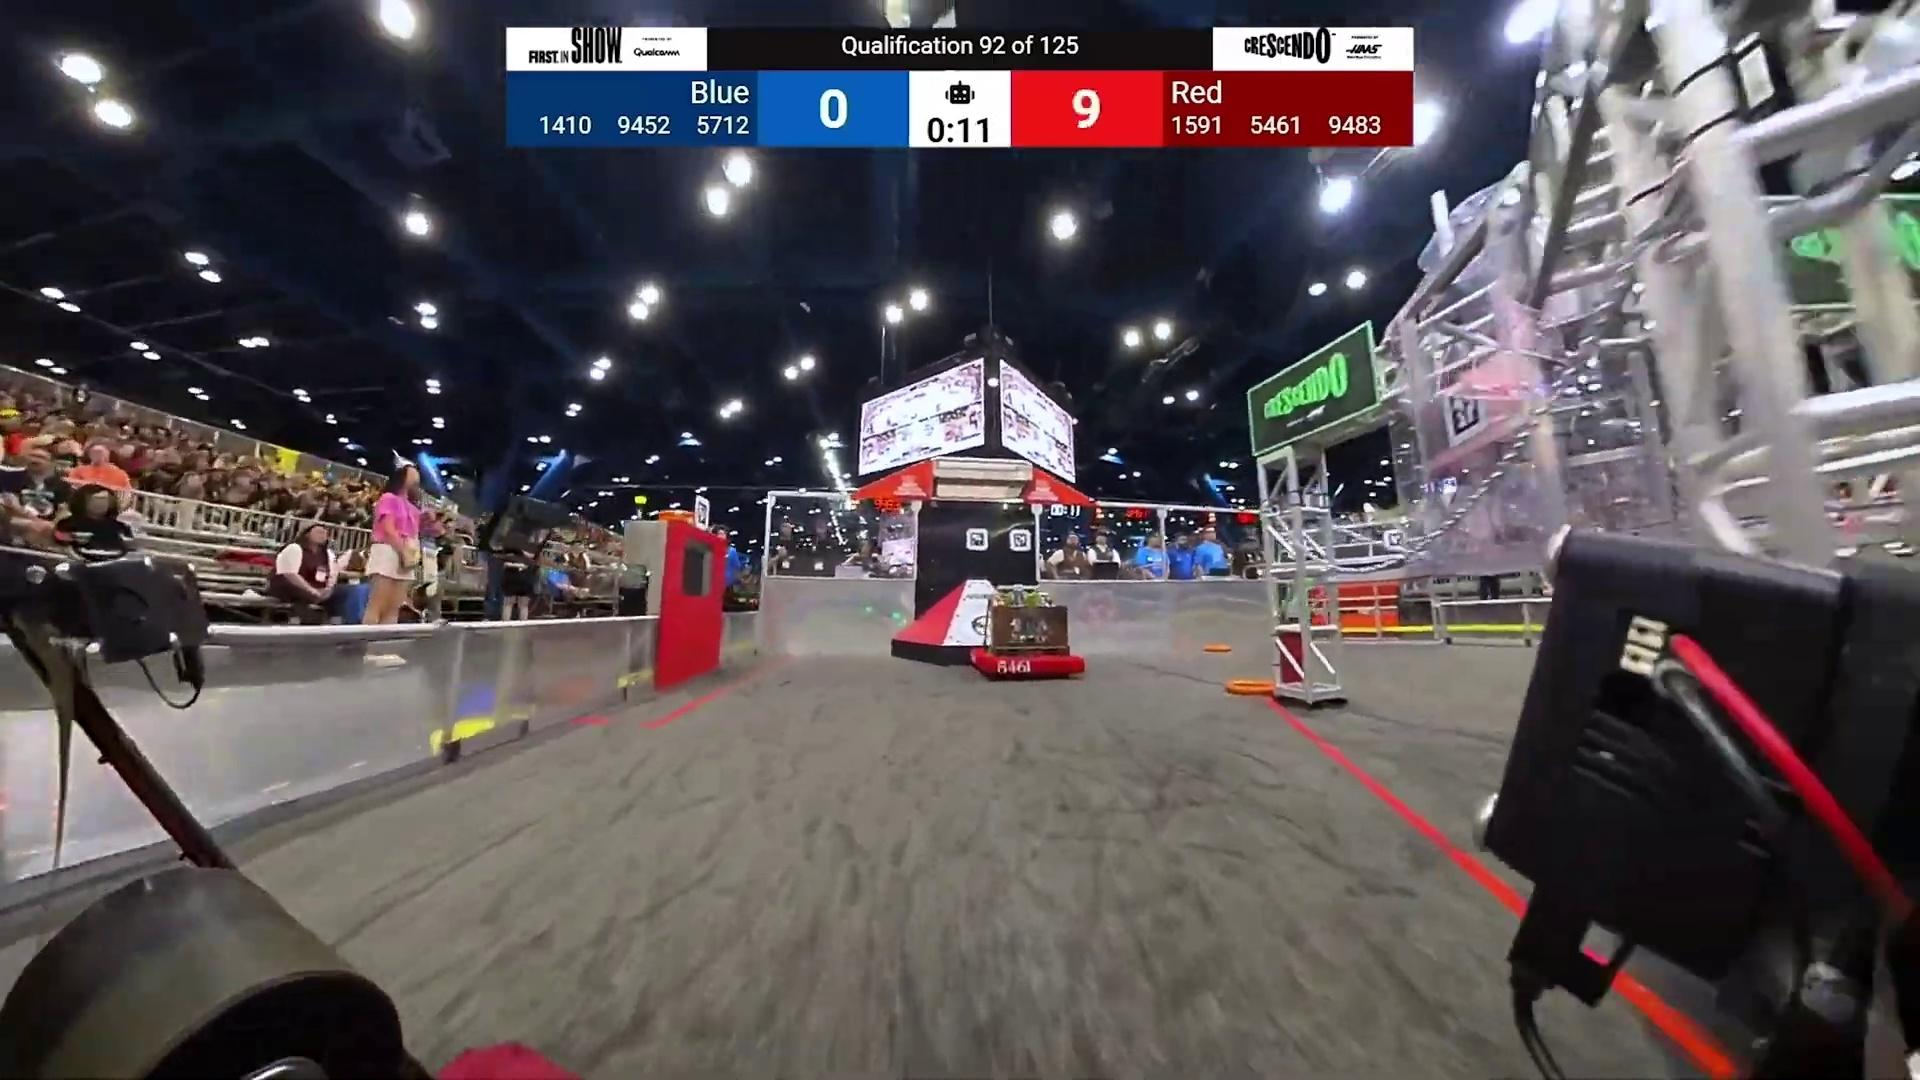robot: (967, 584, 1087, 682)
